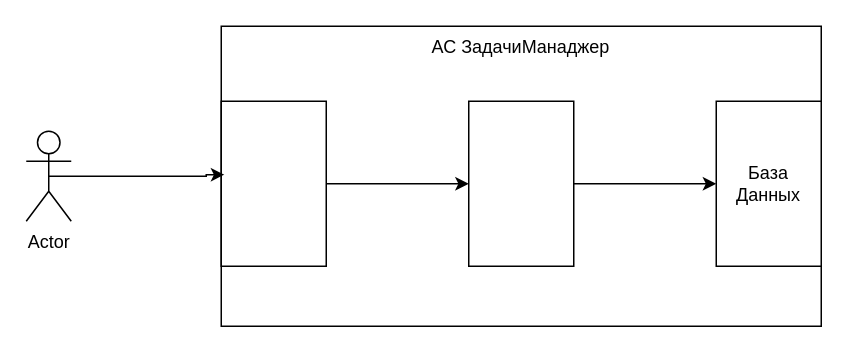
Image size: 848x353. Some labels were removed from this diagram. The box of each missing label's shape, as (x1, y1, x2, y2) in pixels:
Бизнес Логика: (467, 100, 574, 266)
Логин / Пароль: (220, 100, 326, 266)
